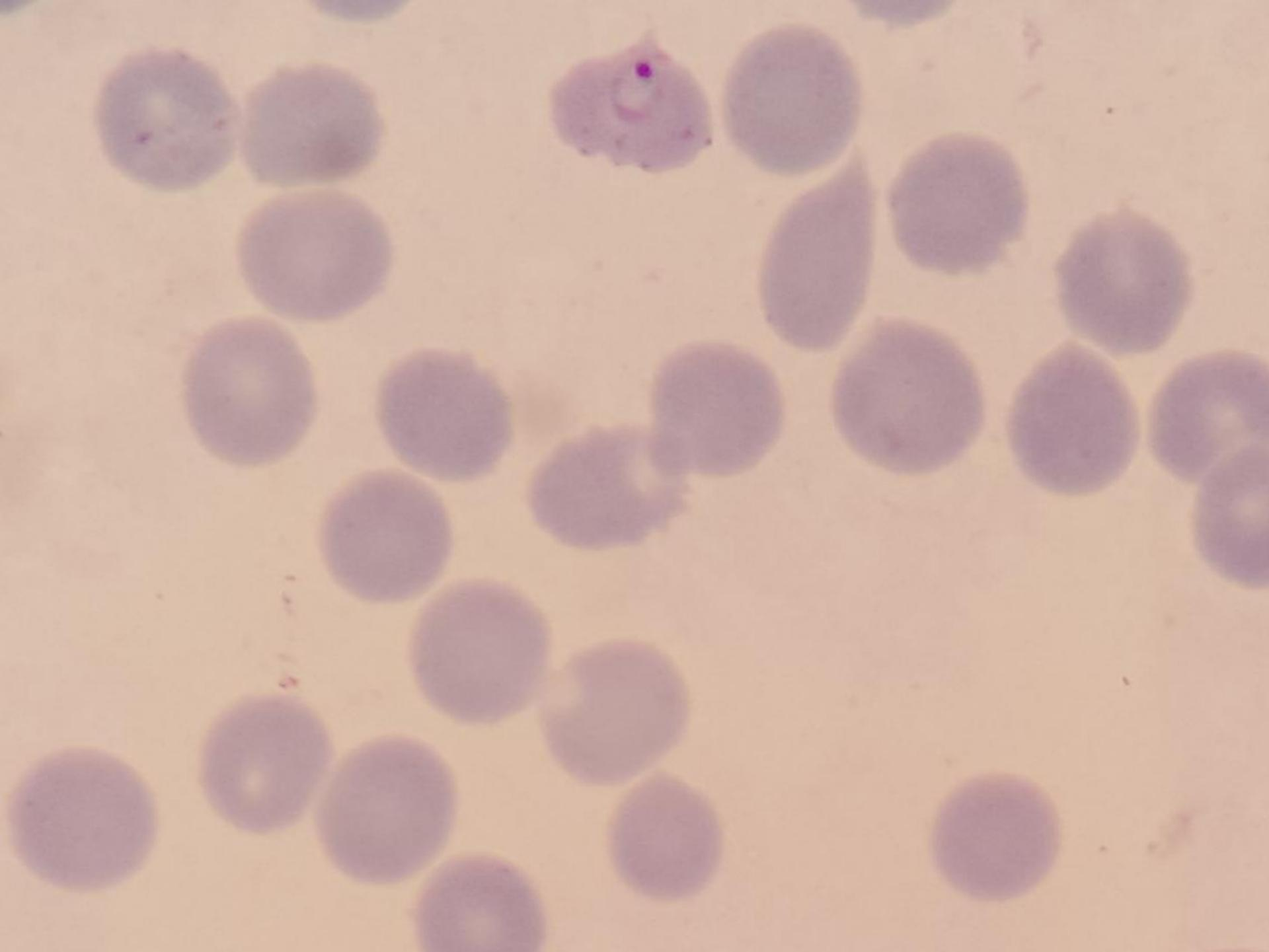Infected: (554, 32, 716, 171)
Uninfected: (833, 319, 985, 472), (540, 641, 695, 787), (763, 149, 876, 349), (408, 577, 559, 723), (720, 27, 868, 175), (312, 734, 459, 883), (197, 691, 339, 836), (1056, 207, 1195, 355), (12, 747, 154, 891), (532, 423, 689, 553), (183, 319, 319, 466), (97, 48, 239, 188), (236, 60, 387, 188), (891, 134, 1029, 274), (646, 335, 783, 474), (238, 195, 391, 319), (1008, 344, 1132, 495), (319, 471, 453, 602), (932, 773, 1063, 903), (382, 349, 507, 480), (1148, 355, 1269, 480), (608, 777, 725, 903), (415, 848, 548, 952)
